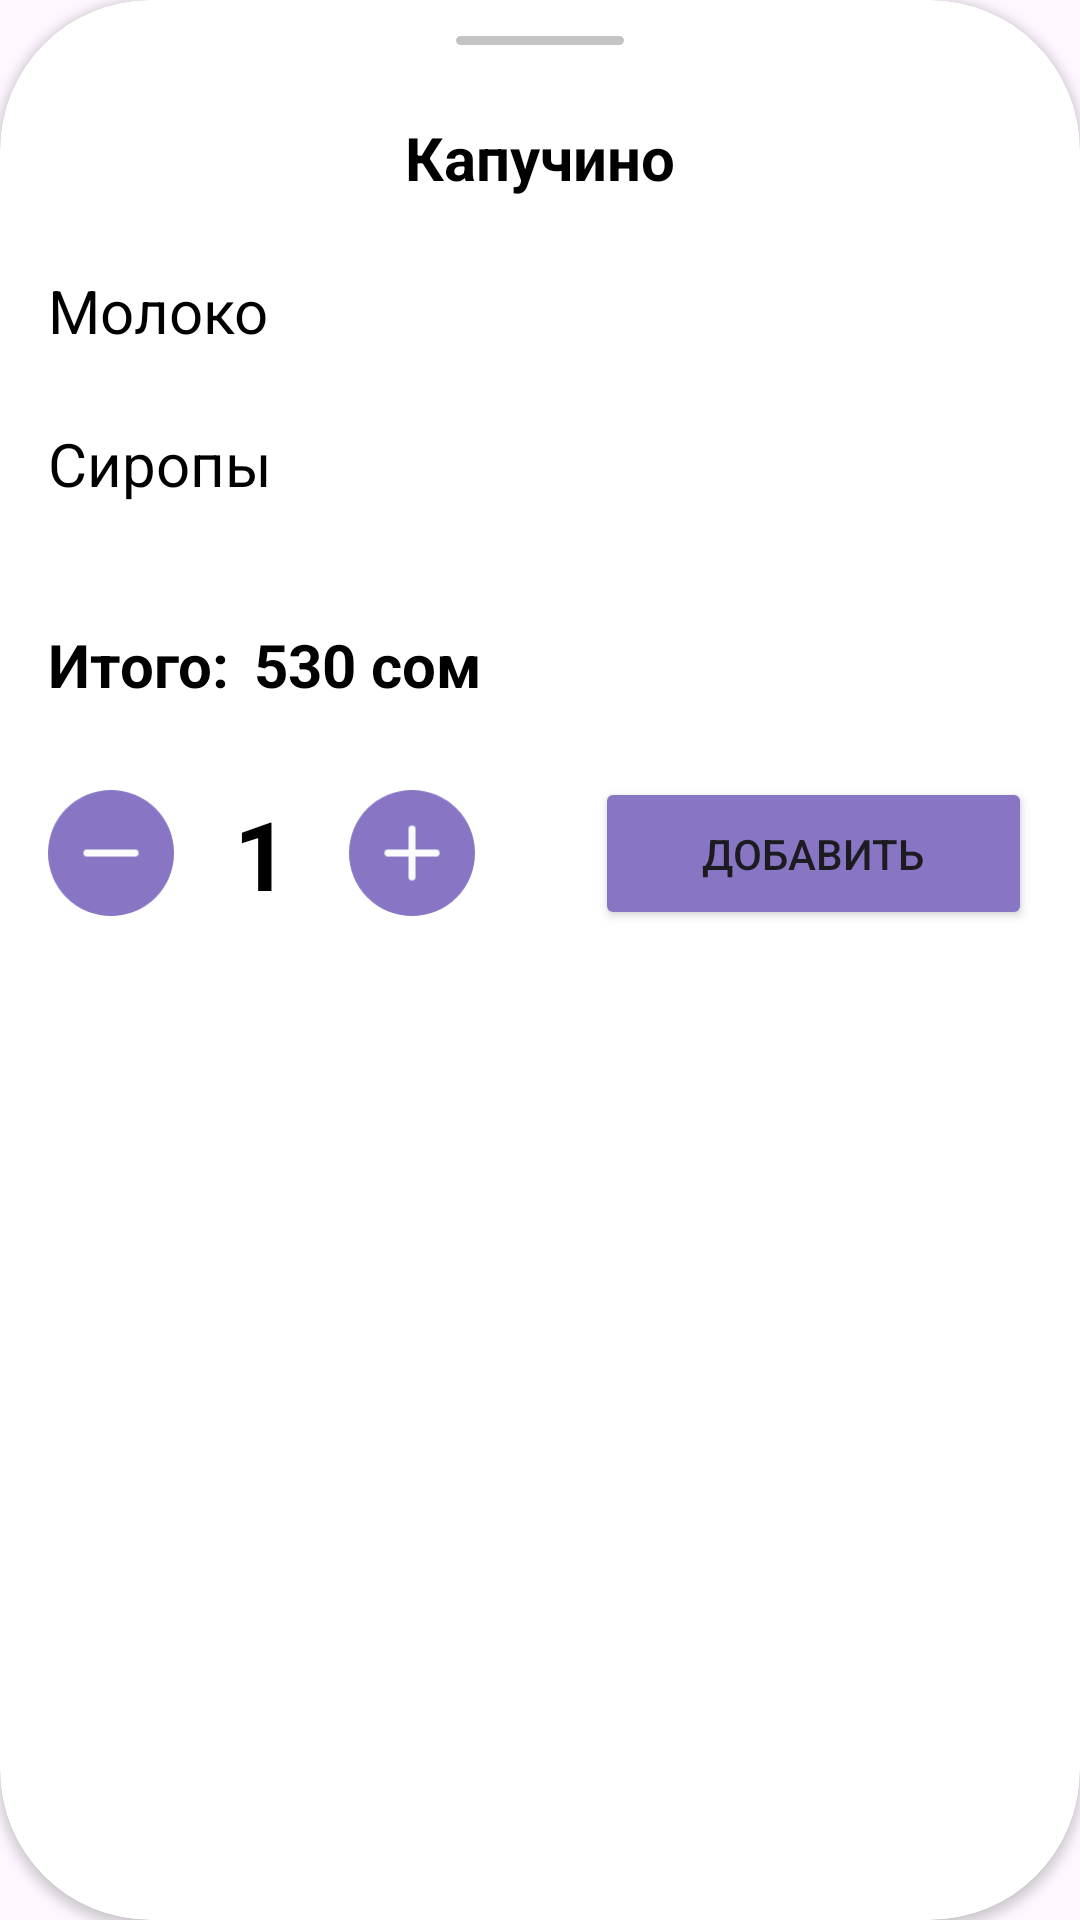

Icon bounding boxes for this 1080px x 1920px phone screenshot, format Rect(x1, y1, x2, y2):
add item: Rect(349, 790, 475, 916)
decrease item: Rect(48, 790, 174, 916)
